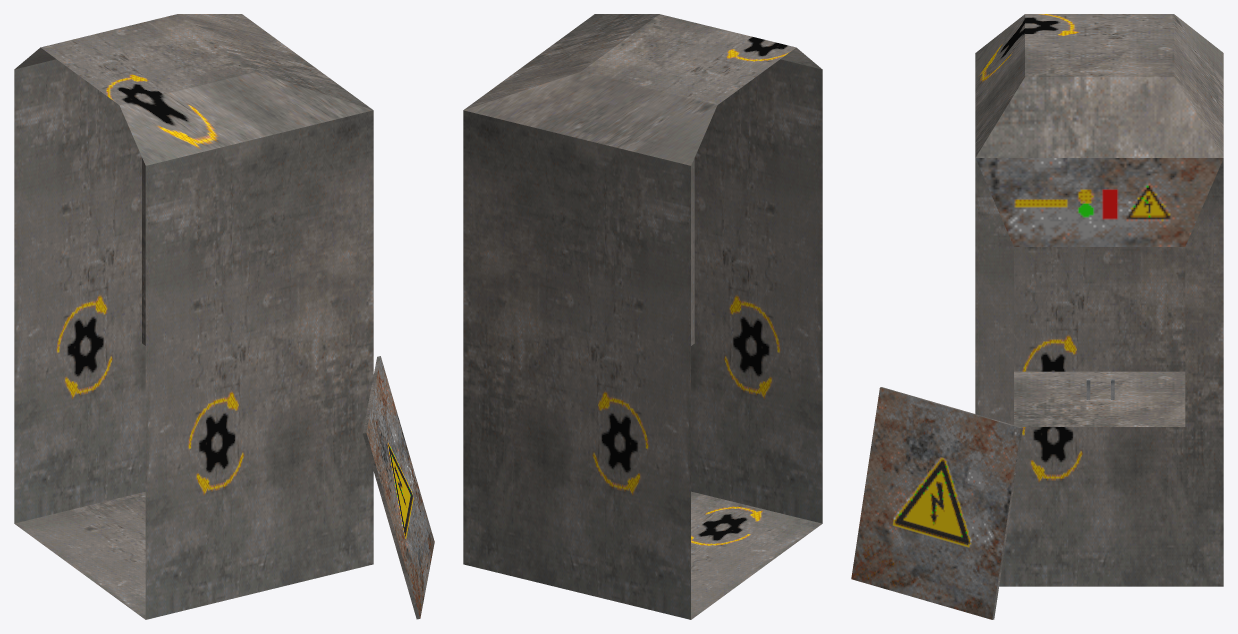
The model's file is FuseBox2.fbx.
The picture shows the model from 3 angles, left to right: view 1: azimuth 30°, elevation 25°; view 2: azimuth 150°, elevation 25°; view 3: azimuth 270°, elevation 25°; orthographic projection. The views are drawn at different scales.
Parts seen in each view (by area): view 1: FuseBox.001, FuseBox_door.001; view 2: FuseBox.001; view 3: FuseBox.001, FuseBox_door.001.
Boxes of the visible parts, box(x1,y1,x2,y2) form: FuseBox.001: box(14, 14, 373, 619); FuseBox_door.001: box(362, 356, 434, 619); FuseBox.001: box(463, 14, 822, 619); FuseBox.001: box(975, 14, 1223, 586); FuseBox_door.001: box(851, 387, 1022, 619).
Size of the model in its own units: 181 by 289 by 207.
1 material, 1 textured.
